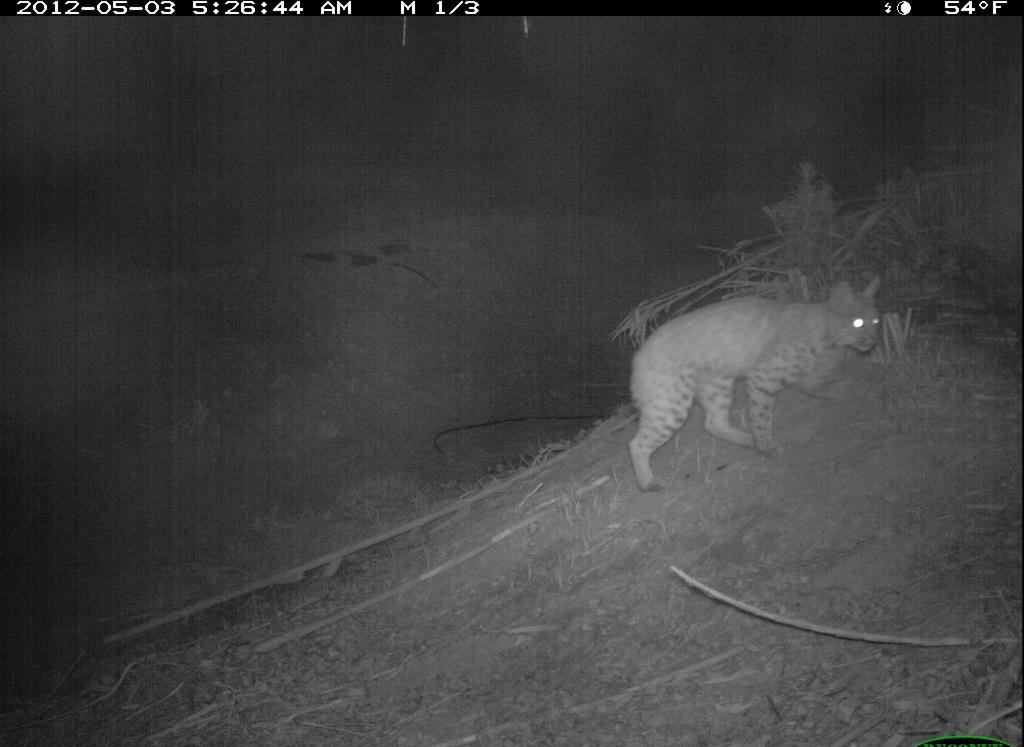bobcat: (606, 274, 904, 491)
